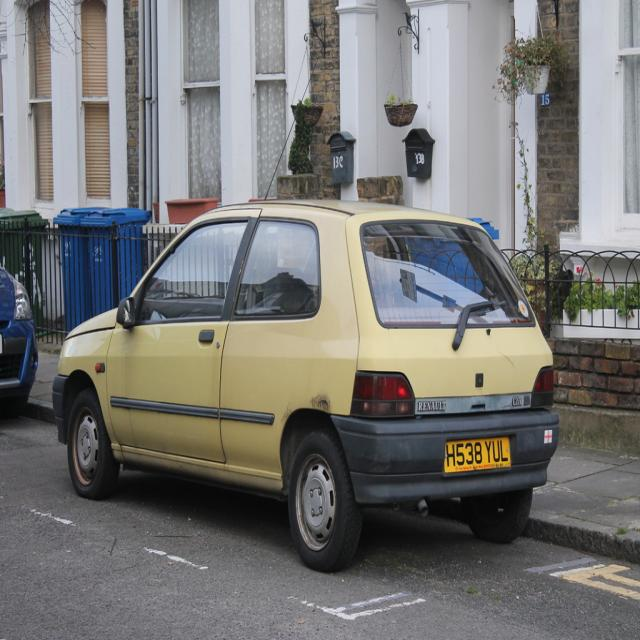car: (47, 181, 558, 576)
